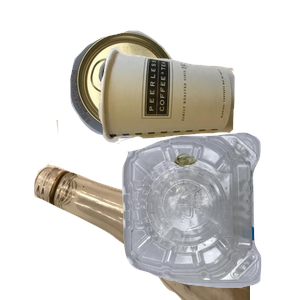glass: (31, 120, 271, 300)
metal: (68, 28, 237, 159)
plastic: (119, 130, 300, 300)
trash: (95, 44, 300, 180)
